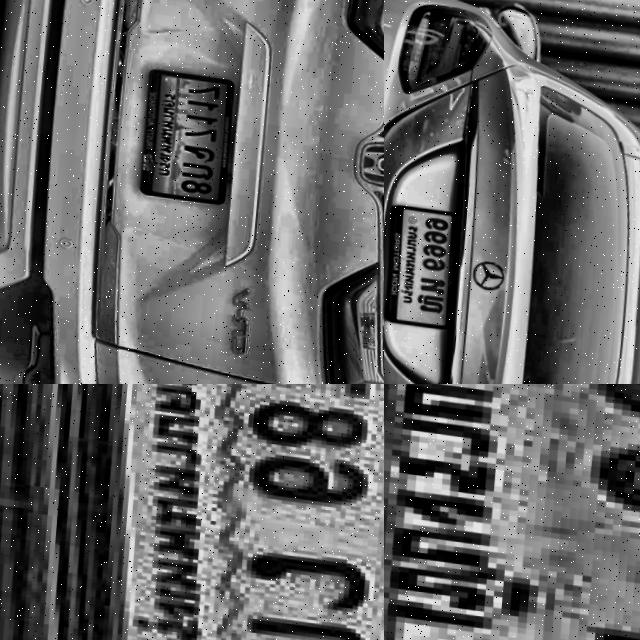license-plate: (42, 384, 384, 640), (384, 384, 640, 640), (134, 62, 237, 204), (384, 198, 461, 328)
